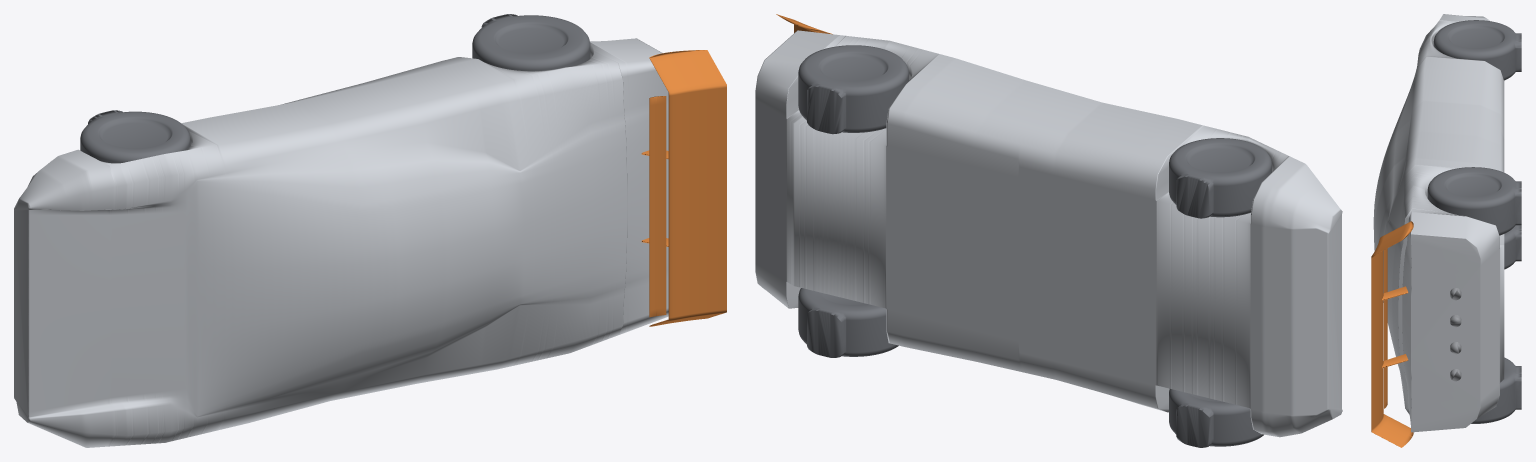
File: roadster_race.glb
3 views of the same model, side by side, from view 1: azimuth 30°, elevation 25°; view 2: azimuth 150°, elevation 25°; view 3: azimuth 270°, elevation 25° (orthographic). The views are drawn at different scales.
Bounding box in the file's own units: 4.6 × 1.98 × 1.21.
